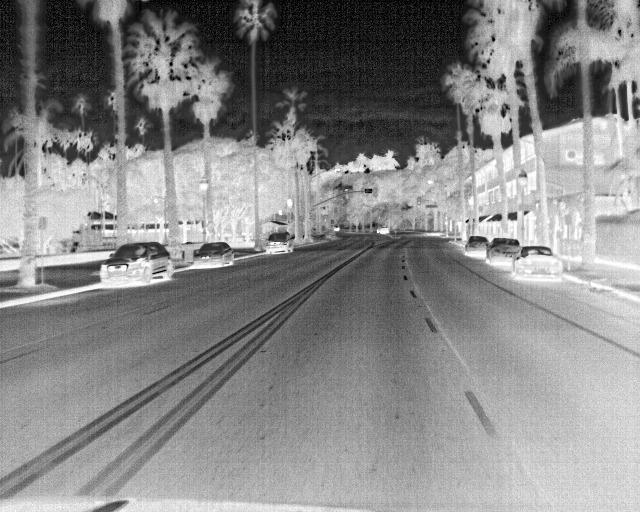car: (98, 240, 172, 286), (514, 243, 560, 280), (190, 243, 237, 271), (485, 237, 522, 265), (262, 230, 297, 254), (463, 234, 491, 255), (373, 222, 390, 237)
